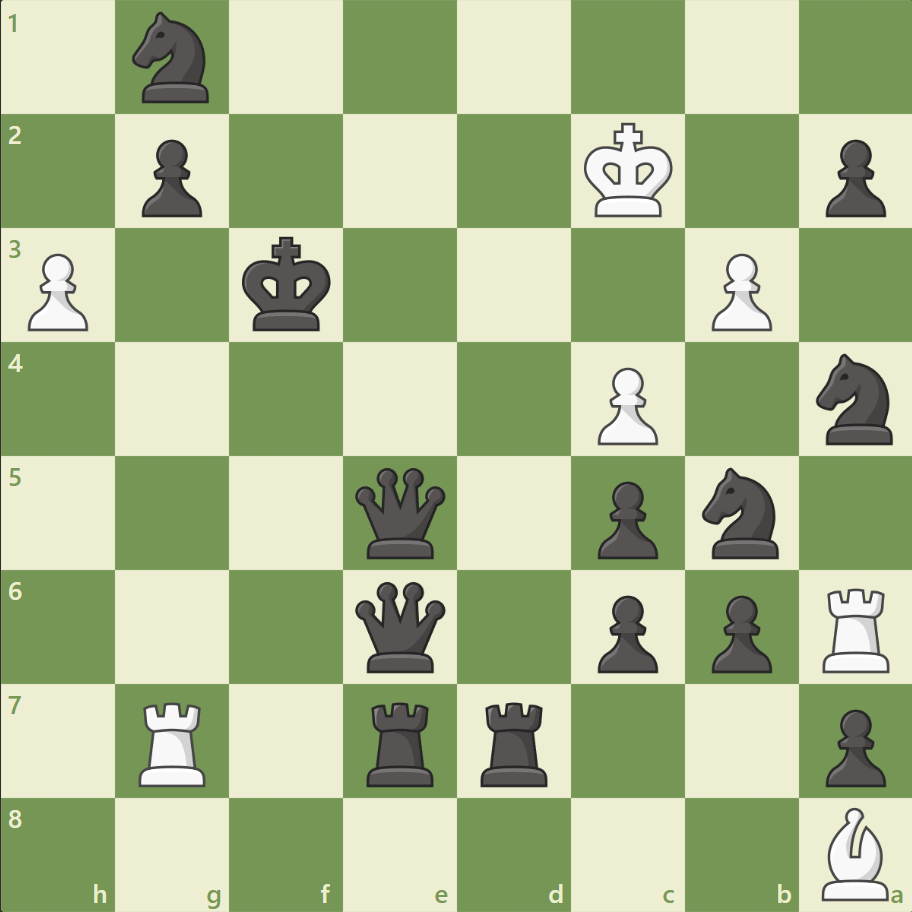B: (812, 801, 896, 904)
K: (579, 117, 679, 225)
P: (701, 246, 776, 337), (20, 246, 95, 337), (588, 359, 662, 450)
R: (814, 579, 897, 676), (133, 693, 215, 790)
k: (238, 231, 338, 339)
n: (124, 7, 222, 110), (692, 461, 789, 564), (806, 348, 903, 450)
p: (701, 586, 776, 677), (133, 132, 208, 223), (815, 700, 889, 791), (588, 586, 662, 677), (588, 473, 662, 564), (815, 132, 889, 223)
q: (351, 576, 450, 676), (351, 463, 450, 562)
r: (473, 693, 556, 790), (360, 693, 442, 790)
